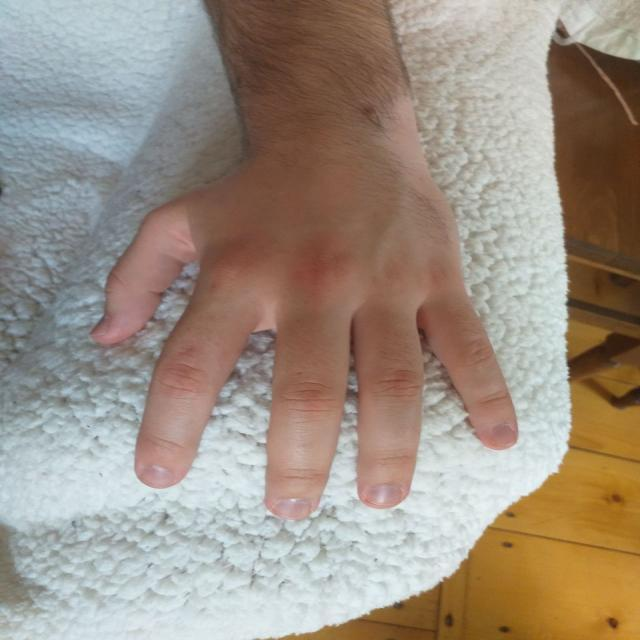Nail: (364, 482, 402, 508), (139, 464, 178, 488), (271, 497, 312, 519), (492, 424, 517, 447), (87, 313, 111, 336)
